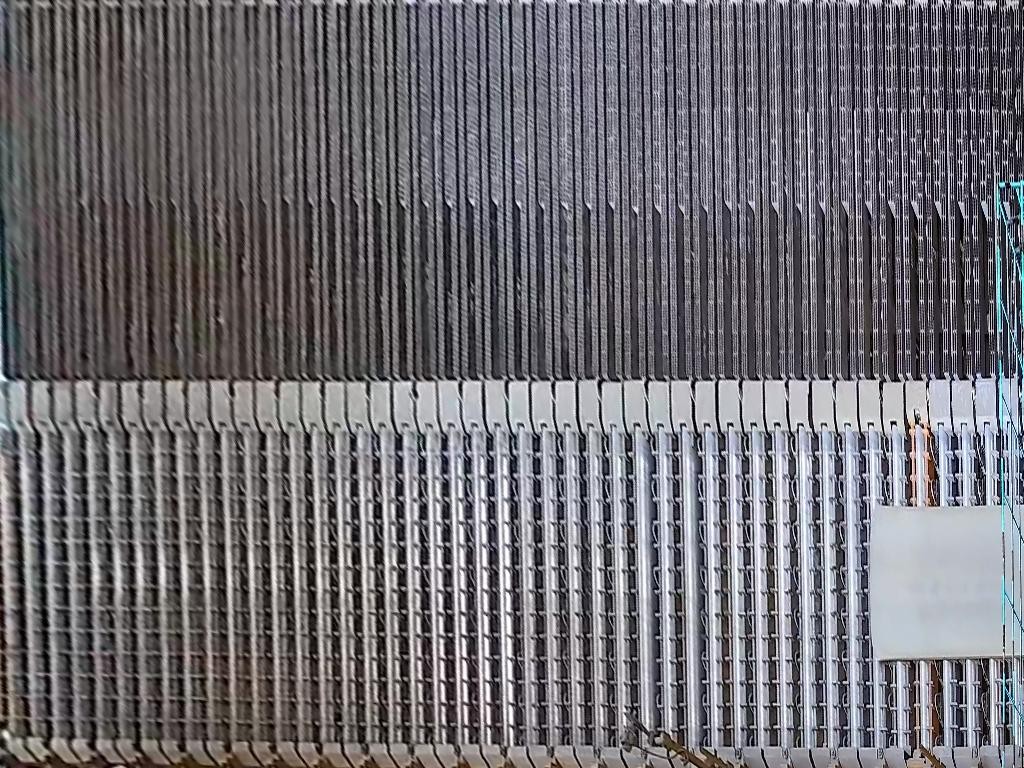steel: (868, 504, 1024, 663)
